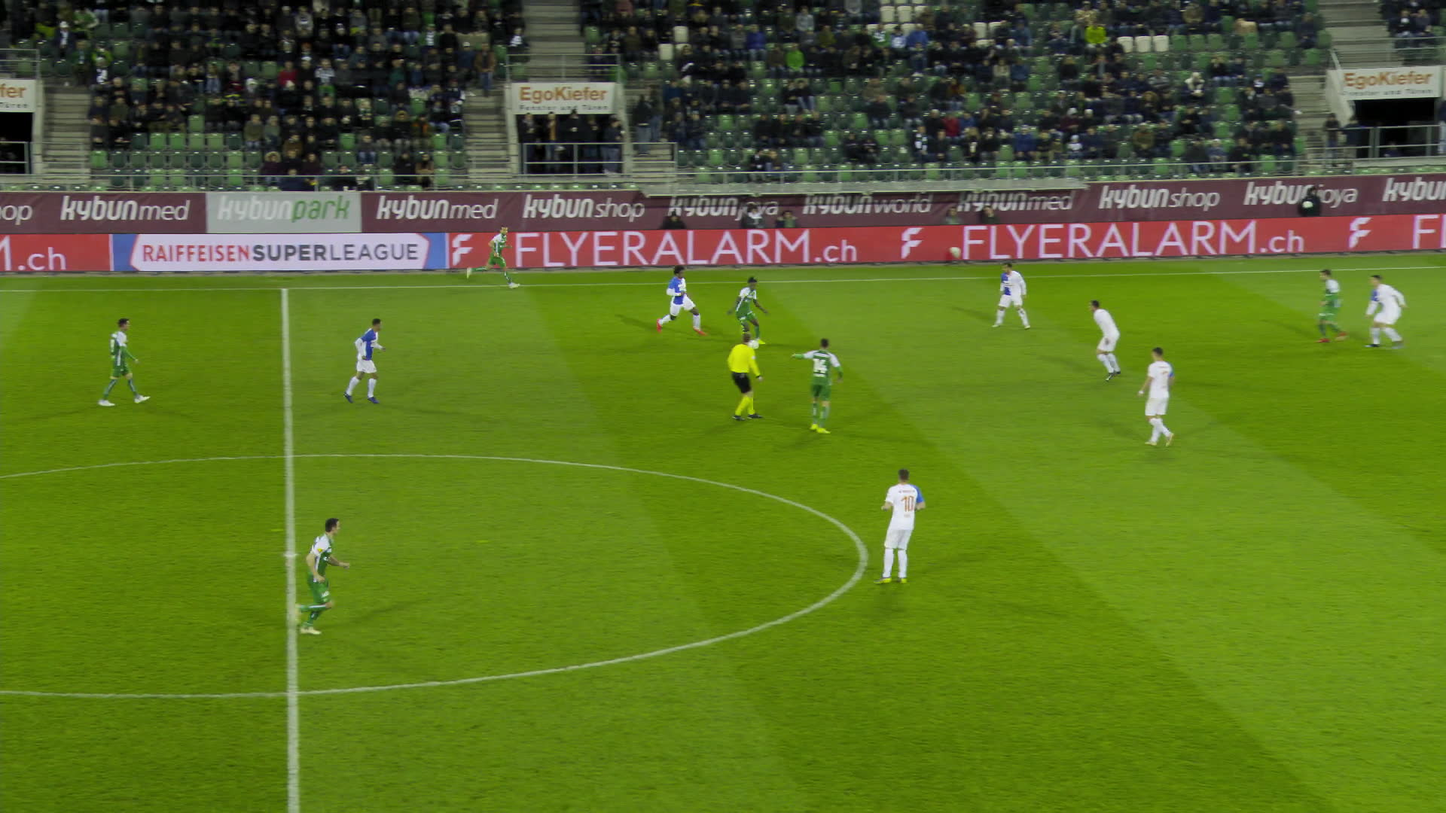ball: (751, 340, 760, 348)
player: (277, 515, 342, 635), (869, 470, 925, 587), (794, 339, 847, 434), (1365, 273, 1419, 349), (102, 315, 145, 405), (1143, 346, 1179, 447), (1316, 266, 1359, 346), (348, 320, 386, 403), (658, 264, 700, 335), (1091, 299, 1122, 381), (731, 274, 767, 342), (472, 226, 511, 288), (993, 260, 1028, 328)
referee: (731, 330, 764, 421)
